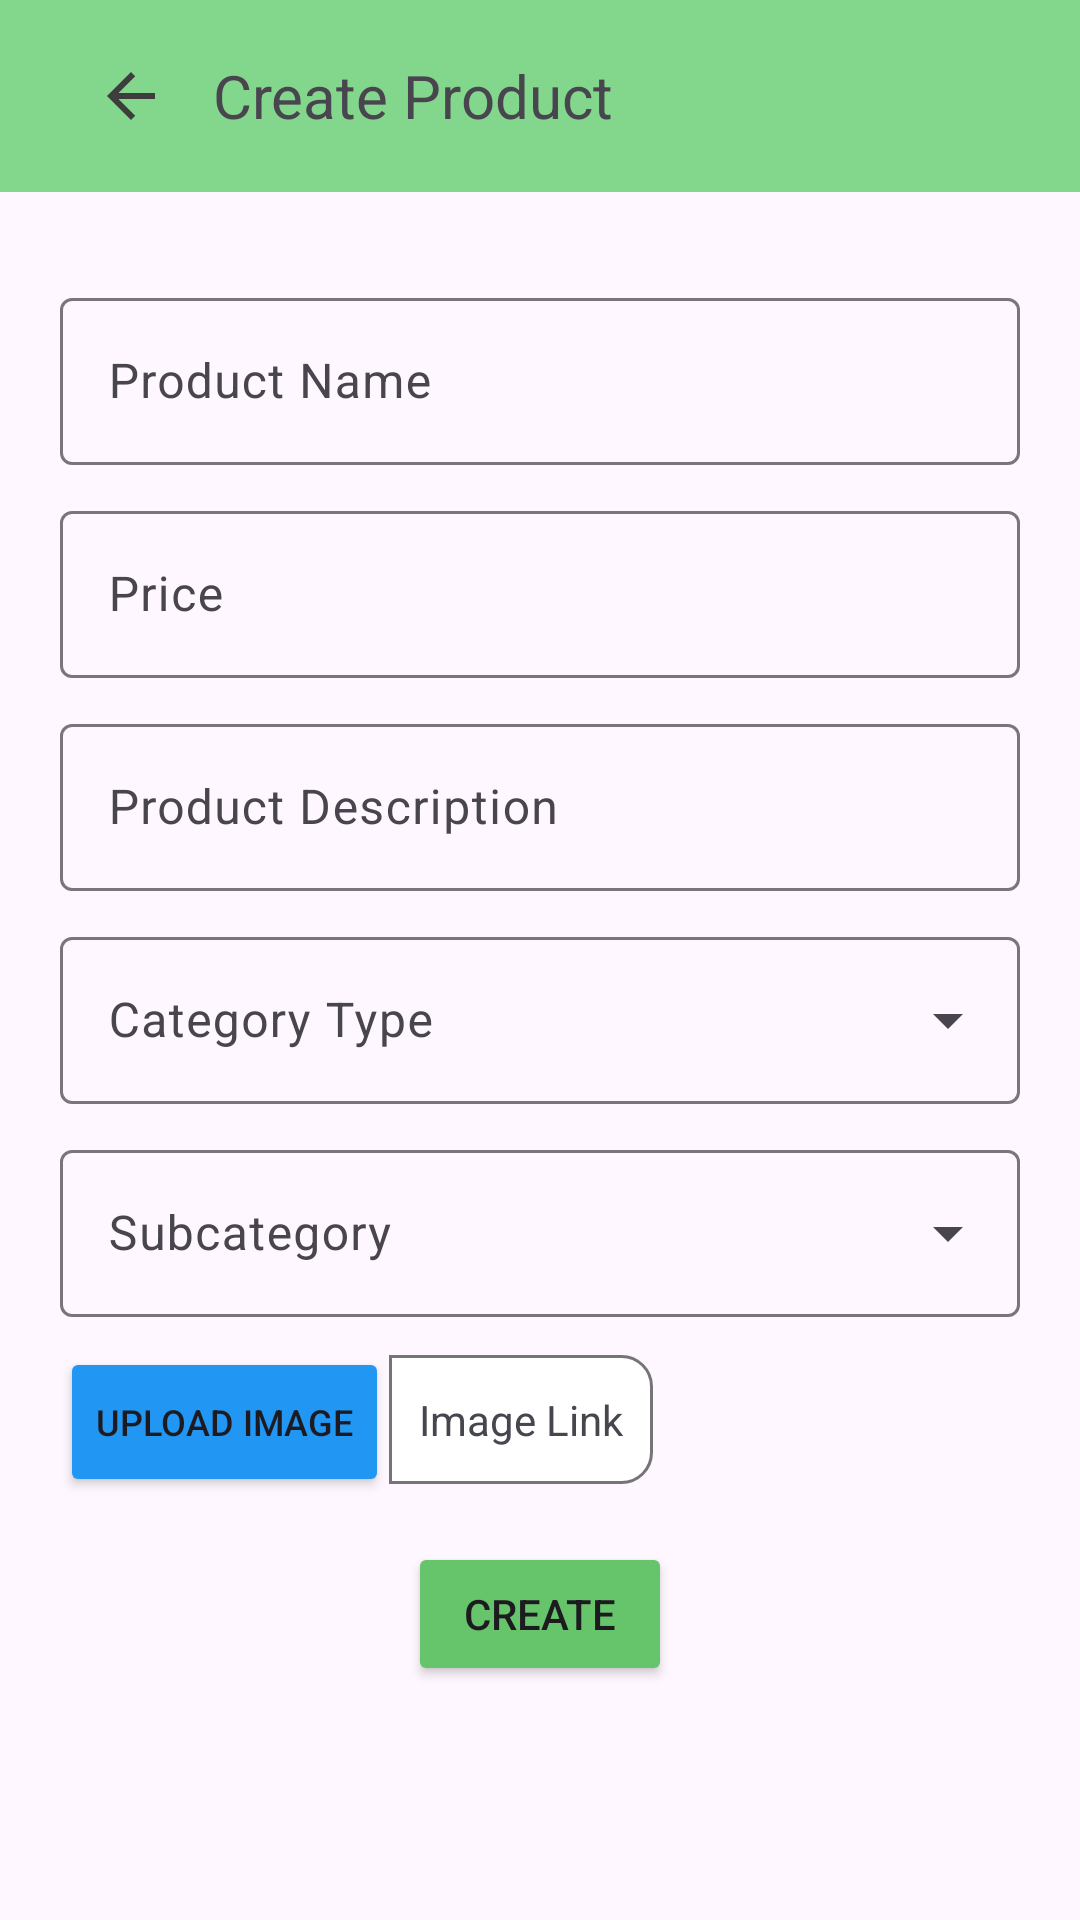

Icons on this 1080×1920 Android screen, each with the point to tap as [x,y]:
arrow back: [131,96]
